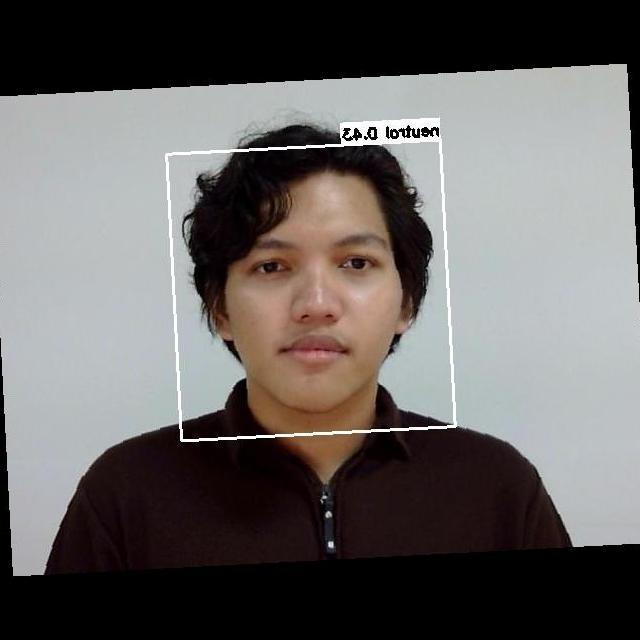Natural: (224, 213, 412, 387)
